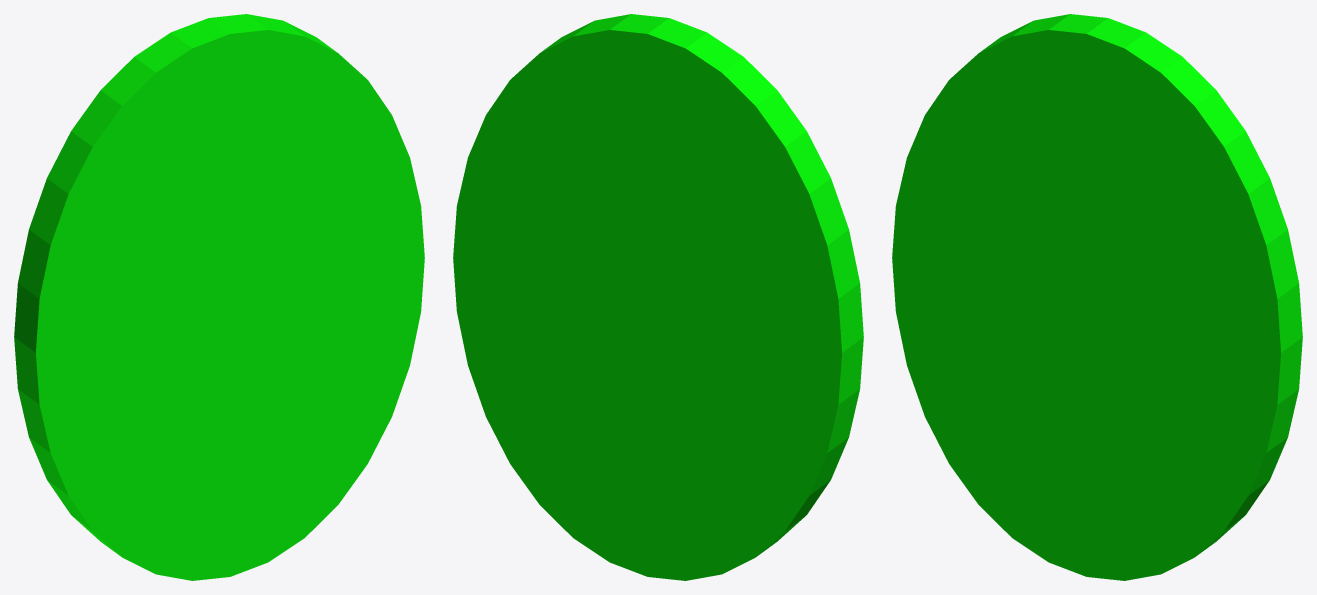
Rendered from BGSpamton(M)(G2).obj.
3 renders of one model, left to right at view 1: azimuth 30°, elevation 25°; view 2: azimuth 150°, elevation 25°; view 3: azimuth 330°, elevation 25°, orthographic.
Parts seen in each view (by area): view 1: Circle; view 2: Circle; view 3: Circle.
Boxes of the visible parts, left/top/right/bottom form: Circle: left=14, top=14, right=424, bottom=580; Circle: left=453, top=14, right=863, bottom=580; Circle: left=892, top=14, right=1302, bottom=580.
Bounding box in the file's own units: 0.1814 × 0.242 × 0.0176.
